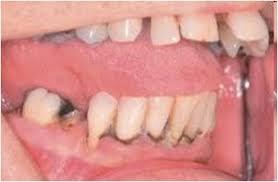Caries: (148, 123, 186, 157), (97, 122, 140, 152), (216, 36, 250, 69), (50, 91, 82, 125)
